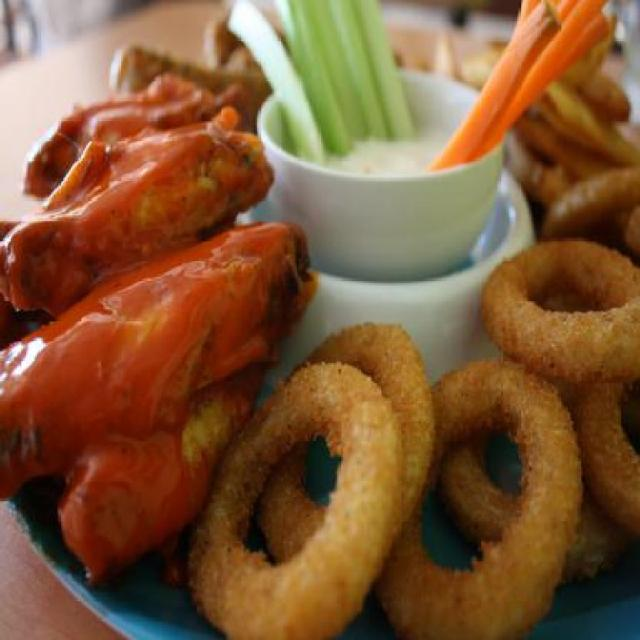chicken wings: (0, 67, 300, 568)
french fries: (432, 22, 639, 238)
onion rings: (190, 235, 639, 639)
